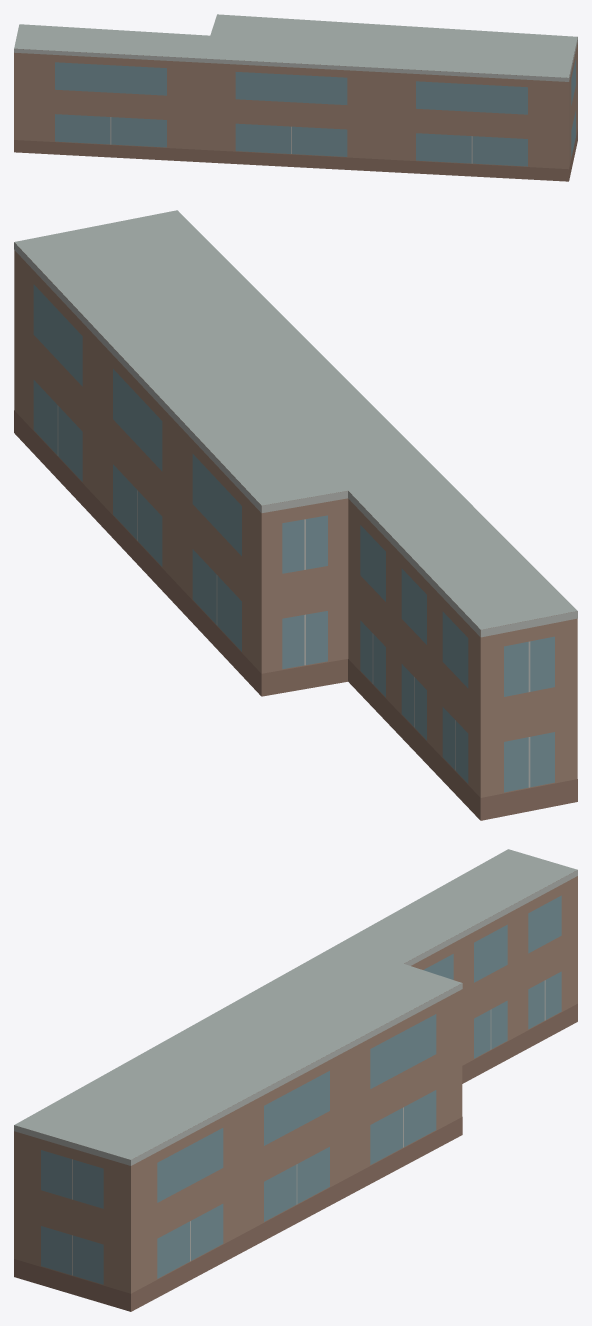
File: survey-upis-32641700.glb
The picture shows the model from 3 angles, top to bottom: view 1: azimuth 30°, elevation 25°; view 2: azimuth 150°, elevation 25°; view 3: azimuth 270°, elevation 25°; orthographic projection. The views are drawn at different scales.
Parts seen in each view (by area): view 1: survey-upis-32641700.tmp; view 2: survey-upis-32641700.tmp; view 3: survey-upis-32641700.tmp.
Boxes of the visible parts, x1,y1,x2,y2 form: survey-upis-32641700.tmp: [14, 14, 577, 181]; survey-upis-32641700.tmp: [14, 210, 577, 820]; survey-upis-32641700.tmp: [14, 849, 577, 1311].
Size of the model in its own units: 26.79 by 6.1 by 20.53.
